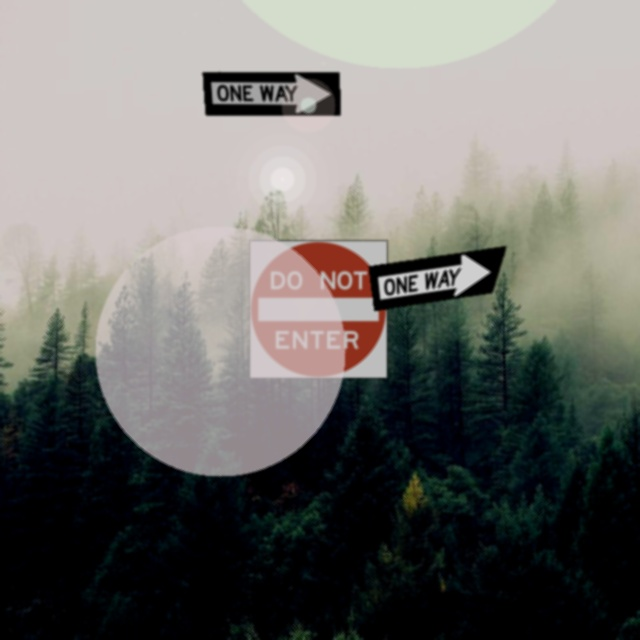DO_NOT_ENTER: (249, 240, 388, 379)
ONE_WAY_ right: (368, 245, 507, 311), (202, 71, 340, 116)
